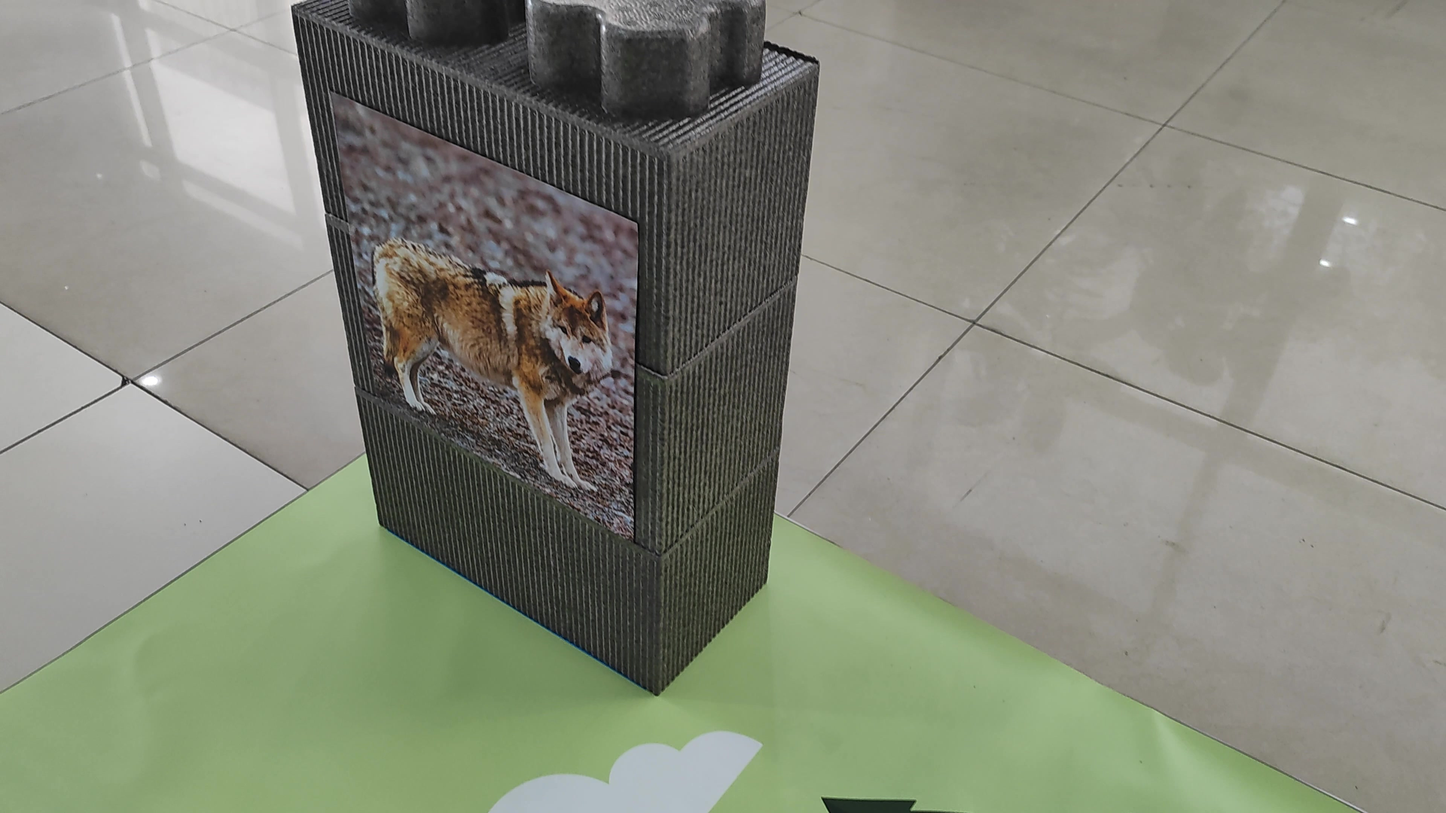wolf: (340, 166, 606, 505)
